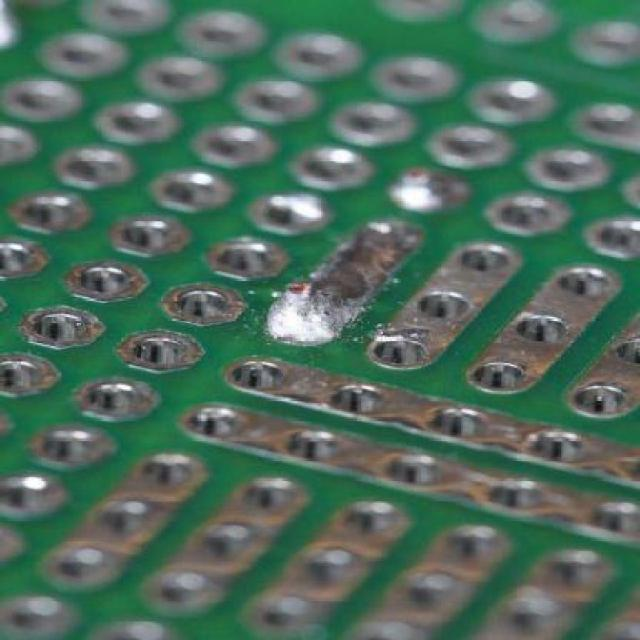Soldering shorted: (259, 259, 359, 347)
